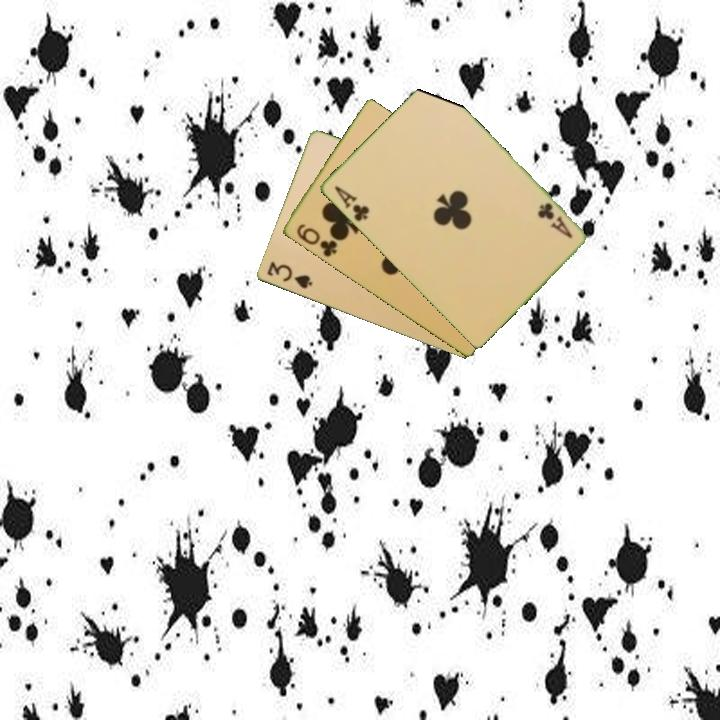3s: (263, 258, 315, 292)
6c: (293, 220, 340, 260)
Ac: (330, 182, 372, 225), (534, 199, 575, 242)
